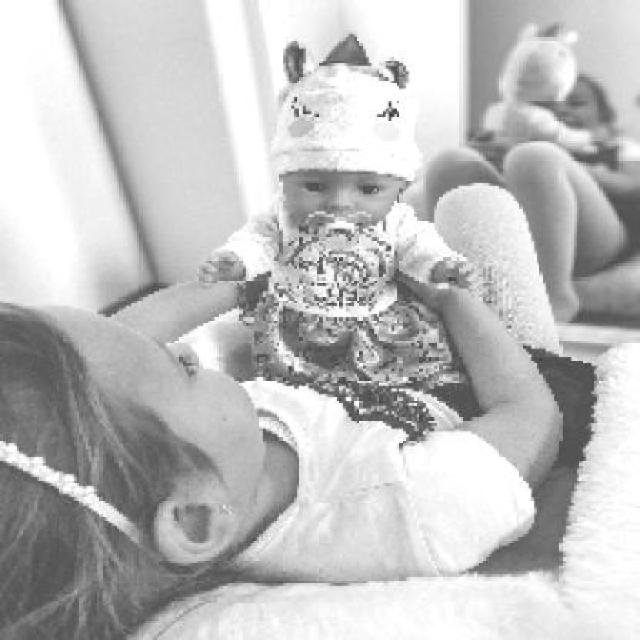child: (3, 37, 566, 637)
